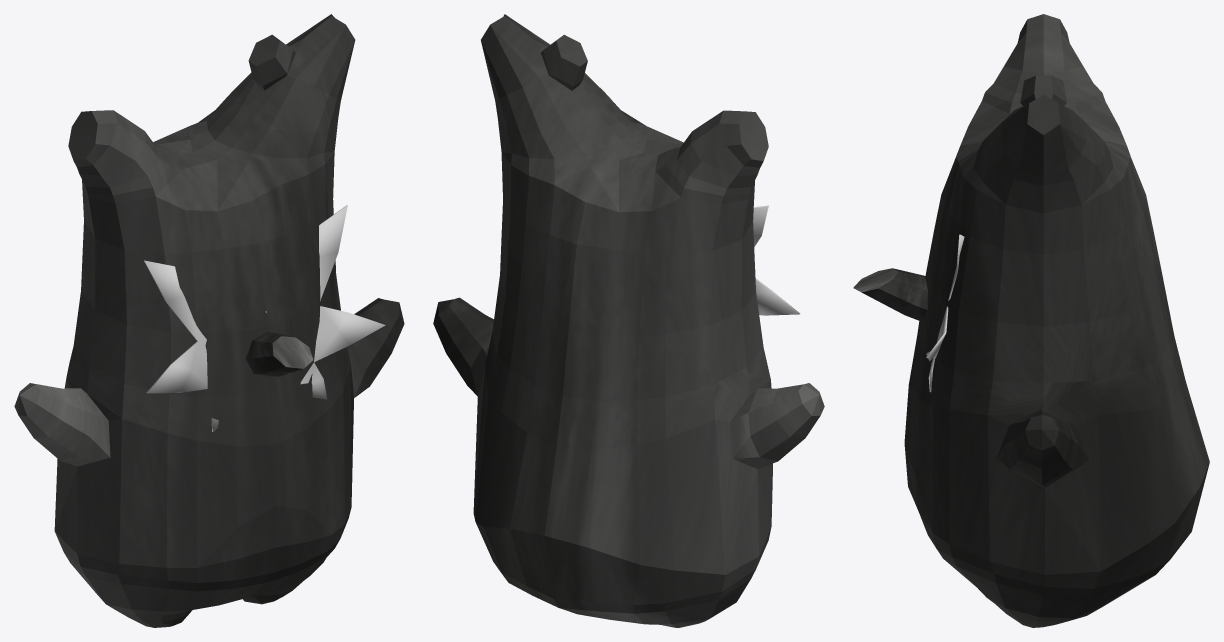
Rendered from frame_0050.obj.
The picture shows the model from 3 angles, left to right: view 1: azimuth 30°, elevation 25°; view 2: azimuth 150°, elevation 25°; view 3: azimuth 270°, elevation 25°; orthographic projection.
Parts seen in each view (by area): view 1: korok, leaf.003_柱体.013, nose.003_柱体.011; view 2: korok, leaf.003_柱体.013; view 3: korok, nose.003_柱体.011, leaf.003_柱体.013.
Boxes of the visible parts, x1=… form: korok: x1=14, y1=14, x2=404, y2=627; leaf.003_柱体.013: x1=144, y1=205, x2=385, y2=431; nose.003_柱体.011: x1=245, y1=332, x2=313, y2=376; korok: x1=433, y1=14, x2=824, y2=627; leaf.003_柱体.013: x1=753, y1=205, x2=800, y2=315; korok: x1=904, y1=14, x2=1209, y2=627; nose.003_柱体.011: x1=853, y1=268, x2=927, y2=322; leaf.003_柱体.013: x1=926, y1=234, x2=964, y2=392.
Size of the model in its own units: 1.68 by 2.38 by 1.36.
